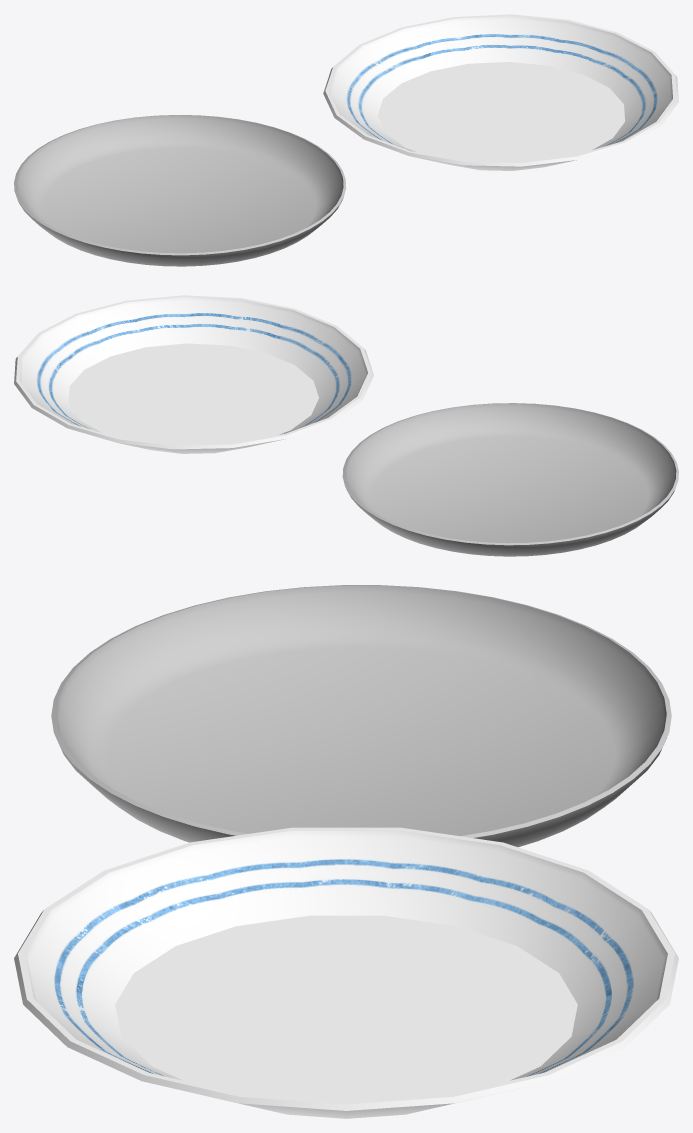
File: PLATOS.fbx
The picture shows the model from 3 angles, top to bottom: view 1: azimuth 30°, elevation 25°; view 2: azimuth 150°, elevation 25°; view 3: azimuth 270°, elevation 25°; orthographic projection. The views are drawn at different scales.
Visible parts, largest first — view 1: Prato, Circle; view 2: Prato, Circle; view 3: Prato, Circle.
Boxes of the visible parts, x1,y1,x2,y2 form: Prato: (323, 14, 678, 170); Circle: (14, 115, 346, 266); Prato: (14, 295, 373, 453); Circle: (342, 403, 678, 556); Prato: (14, 827, 678, 1118); Circle: (51, 585, 671, 847).
Size of the model in its own units: 195 by 97.77 by 13.52.
